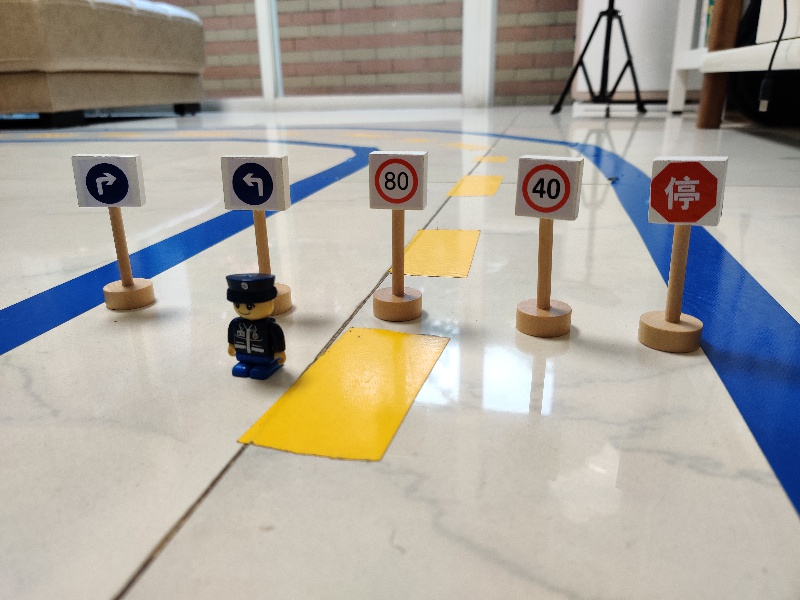limit_40: (510, 151, 587, 222)
limit_80: (364, 148, 432, 211)
person: (216, 268, 289, 382)
stop: (642, 154, 731, 227)
turn_left: (217, 153, 292, 215)
turn_right: (65, 151, 149, 209)
